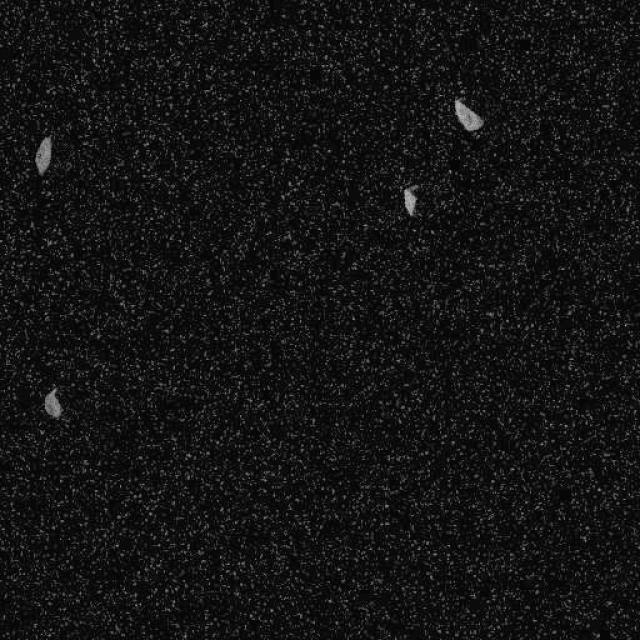D2: (452, 98, 483, 132), (34, 134, 52, 176), (42, 386, 62, 420), (401, 184, 420, 216)
